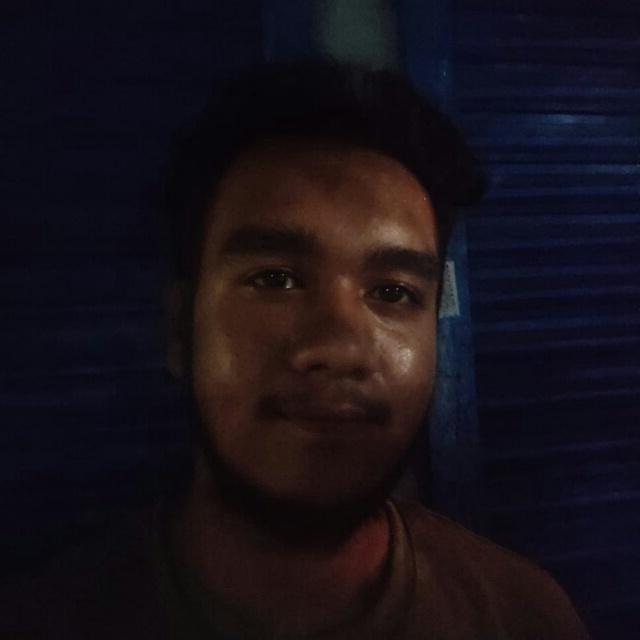Natural: (152, 90, 493, 563)
